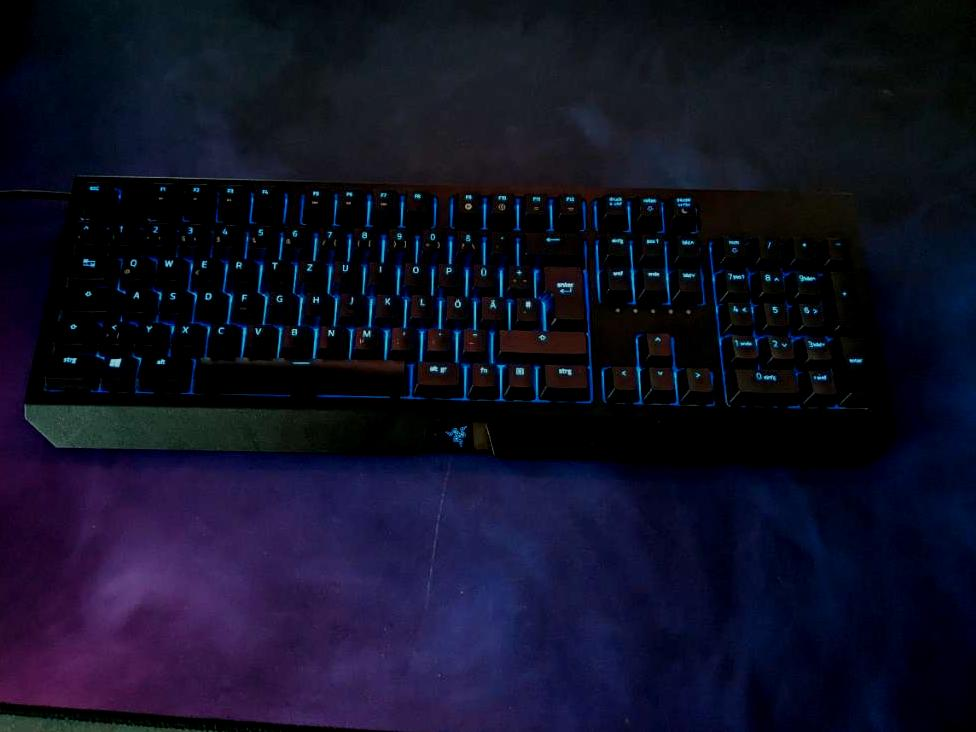0: (419, 226, 443, 254)
1: (105, 219, 131, 245)
2: (138, 220, 166, 246)
3: (173, 220, 200, 248)
4: (209, 221, 235, 248)
5: (245, 222, 272, 251)
6: (280, 224, 306, 251)
7: (316, 224, 341, 253)
8: (350, 224, 376, 253)
9: (384, 226, 409, 255)
a: (120, 285, 146, 312)
accent: (488, 229, 513, 255)
ae: (479, 293, 505, 319)
alt-left: (133, 352, 184, 388)
altgr-right: (412, 359, 460, 387)
b: (279, 322, 307, 349)
c: (205, 320, 234, 350)
caret: (70, 219, 95, 244)
comma: (388, 324, 415, 351)
d: (193, 287, 219, 315)
del: (521, 230, 583, 255)
e: (189, 254, 215, 281)
enter: (540, 262, 584, 321)
f: (228, 288, 256, 317)
g: (265, 289, 291, 316)
h: (301, 290, 327, 316)
hash: (513, 294, 538, 320)
i: (365, 258, 392, 285)
j: (336, 290, 362, 317)
k: (371, 291, 400, 318)
keyboard: (23, 172, 894, 424)
l: (408, 292, 433, 318)
less: (95, 318, 125, 344)
m: (351, 323, 378, 350)
minus: (459, 326, 486, 353)
n: (316, 322, 343, 349)
o: (401, 259, 427, 286)
oe: (443, 293, 469, 319)
p: (434, 260, 460, 287)
plus: (504, 261, 531, 289)
point: (424, 326, 451, 351)
q: (117, 253, 144, 278)
r: (224, 255, 251, 283)
s: (156, 287, 183, 314)
shift-left: (49, 318, 89, 342)
shift-lock: (58, 285, 113, 310)
shift-right: (496, 327, 586, 353)
space: (189, 355, 406, 393)
ss: (454, 228, 480, 255)
strg-left: (40, 351, 91, 378)
strg-right: (539, 361, 590, 395)
t: (260, 257, 286, 283)
tab: (63, 251, 108, 278)
u: (330, 257, 356, 285)
ue: (469, 260, 496, 288)
v: (242, 321, 272, 350)
w: (152, 253, 180, 279)
x: (168, 320, 197, 348)
y: (131, 320, 160, 346)
z: (295, 257, 321, 284)
